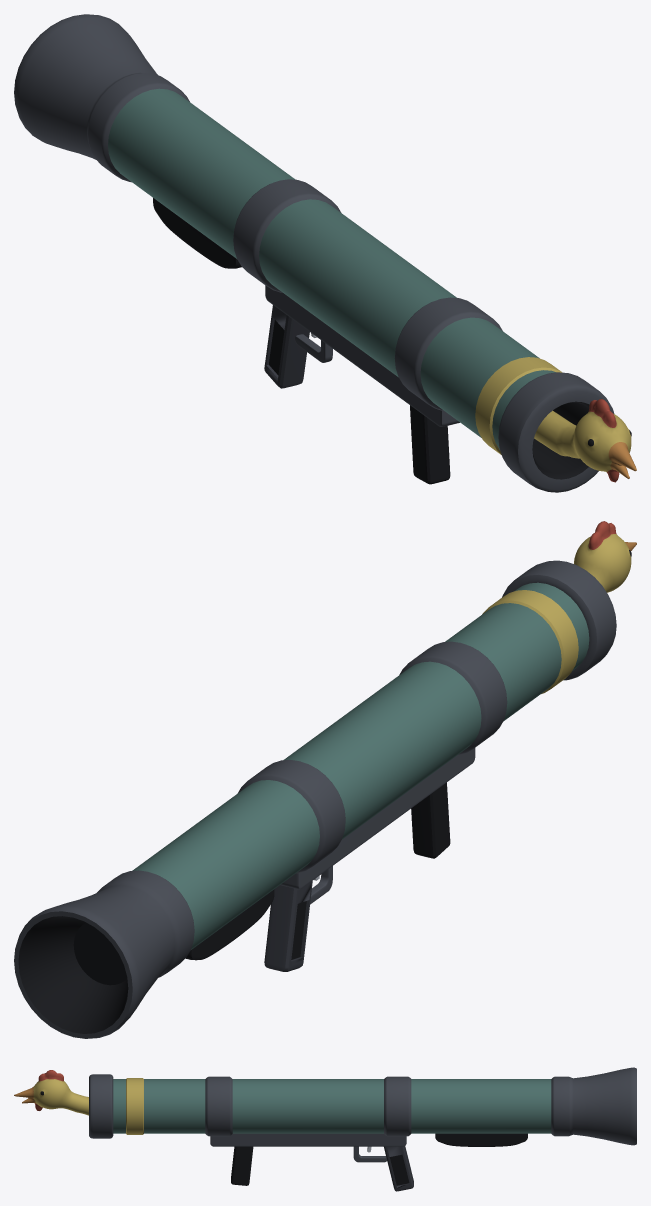
The model's file is w_chicken.glb.
3 renders of one model, top to bottom at view 1: azimuth 30°, elevation 25°; view 2: azimuth 150°, elevation 25°; view 3: azimuth 270°, elevation 25°, orthographic. The views are drawn at different scales.
Visible parts, largest first — view 1: body_wzA__body__p4f716d, body_wzB__frame__p444851, bird_wzN__chick__pb3a157, mount_wzB__frame__p444851, fore_wzB__black__p16171b, body_wzN__chick__pb3a157, grip_wzB__dark__p353840, body_wzN__black__p16171b, pad_wzB__black__p16171b; view 2: body_wzA__body__p4f716d, body_wzB__frame__p444851, body_wzN__black__p16171b, mount_wzB__frame__p444851, grip_wzB__dark__p353840, body_wzN__chick__pb3a157, fore_wzB__black__p16171b, bird_wzN__chick__pb3a157, pad_wzB__black__p16171b; view 3: body_wzA__body__p4f716d, body_wzB__frame__p444851, mount_wzB__frame__p444851, bird_wzN__chick__pb3a157, pad_wzB__black__p16171b, body_wzN__chick__pb3a157, fore_wzB__black__p16171b, grip_wzB__dark__p353840, grip_wzN__black__p16171b, guard_wzB__frame__p444851, bird_wzN__comb__p9c4639.
Part boxes in pixels (x1=…): body_wzA__body__p4f716d: x1=108, y1=88, x2=555, y2=449; body_wzB__frame__p444851: x1=14, y1=14, x2=614, y2=492; bird_wzN__chick__pb3a157: x1=534, y1=410, x2=631, y2=472; mount_wzB__frame__p444851: x1=265, y1=285, x2=459, y2=426; fore_wzB__black__p16171b: x1=410, y1=405, x2=450, y2=484; body_wzN__chick__pb3a157: x1=475, y1=357, x2=562, y2=454; grip_wzB__dark__p353840: x1=264, y1=305, x2=309, y2=388; body_wzN__black__p16171b: x1=532, y1=401, x2=589, y2=479; pad_wzB__black__p16171b: x1=153, y1=198, x2=241, y2=268; body_wzA__body__p4f716d: x1=132, y1=582, x2=589, y2=949; body_wzB__frame__p444851: x1=14, y1=560, x2=616, y2=1038; body_wzN__black__p16171b: x1=18, y1=916, x2=128, y2=1033; mount_wzB__frame__p444851: x1=280, y1=748, x2=475, y2=889; grip_wzB__dark__p353840: x1=264, y1=881, x2=312, y2=971; body_wzN__chick__pb3a157: x1=482, y1=590, x2=578, y2=693; fore_wzB__black__p16171b: x1=411, y1=782, x2=450, y2=858; bird_wzN__chick__pb3a157: x1=574, y1=534, x2=631, y2=592; pad_wzB__black__p16171b: x1=185, y1=889, x2=274, y2=960; body_wzA__body__p4f716d: x1=113, y1=1079, x2=551, y2=1133; body_wzB__frame__p444851: x1=89, y1=1067, x2=636, y2=1145; mount_wzB__frame__p444851: x1=210, y1=1133, x2=406, y2=1146; bird_wzN__chick__pb3a157: x1=33, y1=1079, x2=88, y2=1115; pad_wzB__black__p16171b: x1=435, y1=1133, x2=527, y2=1146; body_wzN__chick__pb3a157: x1=126, y1=1078, x2=143, y2=1134; fore_wzB__black__p16171b: x1=231, y1=1146, x2=253, y2=1185; grip_wzB__dark__p353840: x1=384, y1=1146, x2=413, y2=1191; grip_wzN__black__p16171b: x1=389, y1=1154, x2=409, y2=1185; guard_wzB__frame__p444851: x1=353, y1=1146, x2=386, y2=1162; bird_wzN__comb__p9c4639: x1=35, y1=1070, x2=63, y2=1110.
Size of the model in its own units: 0.177 by 0.2972 by 1.41.
